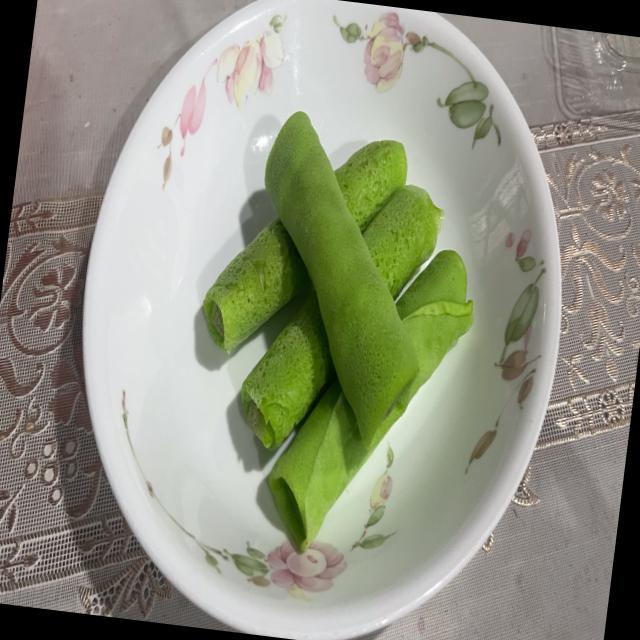Kuih-Ketayap: (269, 250, 473, 549), (264, 111, 418, 445), (240, 292, 334, 449), (202, 218, 310, 351), (362, 185, 444, 298), (335, 140, 407, 231), (335, 141, 404, 222)
